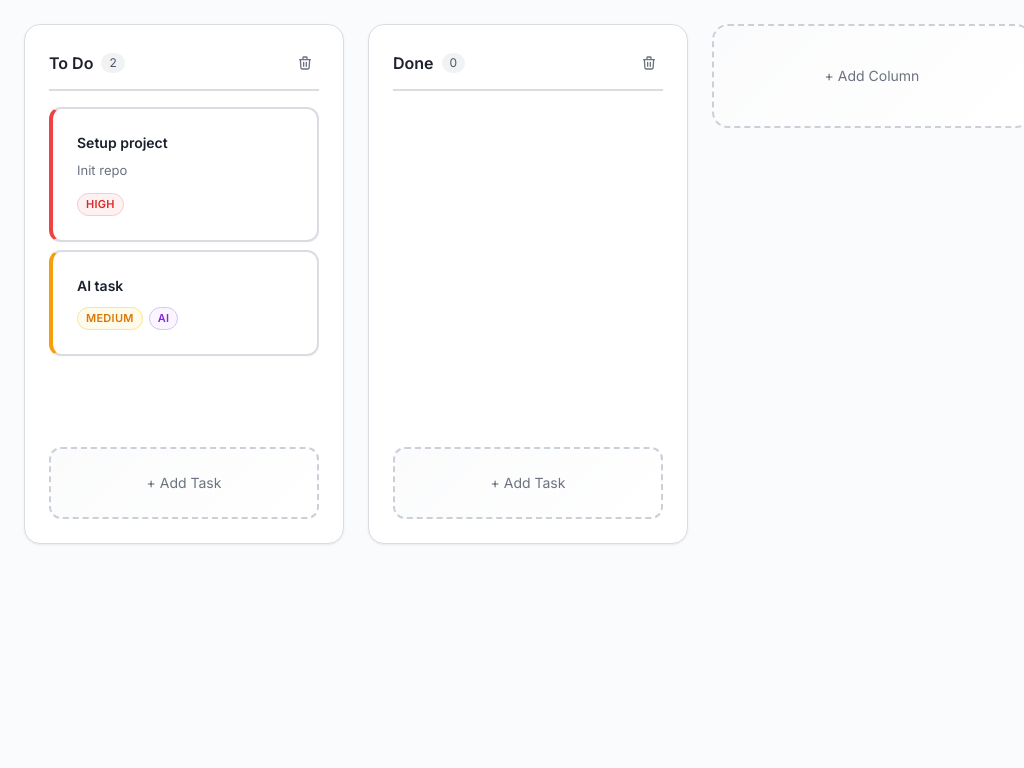
Test: Board › shows version conflict error on 409
Click the text "Setup project". click: (122, 142)
box: [77,134,168,151]
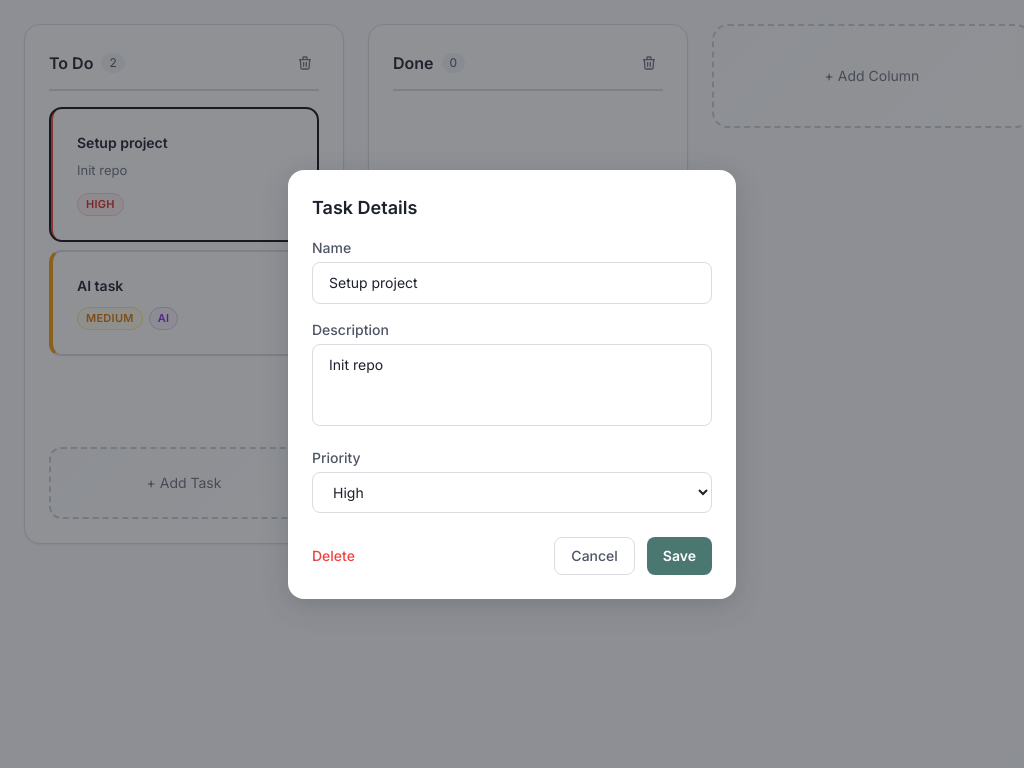
Click the button "Save". click: (679, 556)
box: [647,536,712,574]
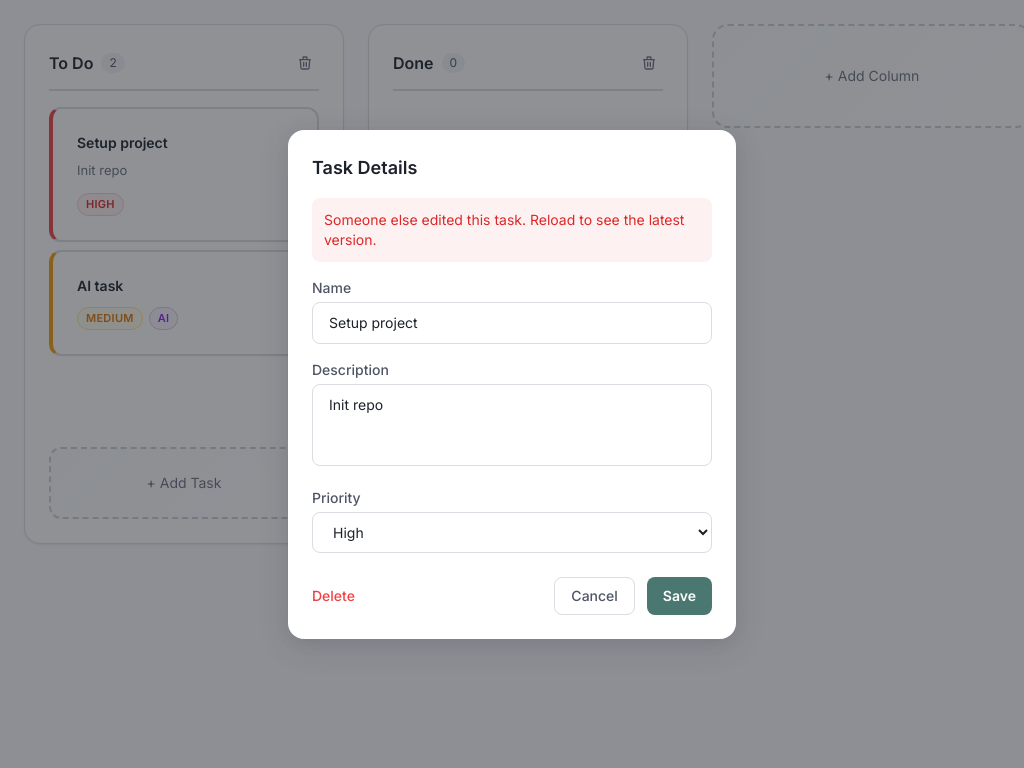
expect the text "Someone else edited this task. Reload to see the latest version." is shown: met, box [312,198,712,262]
